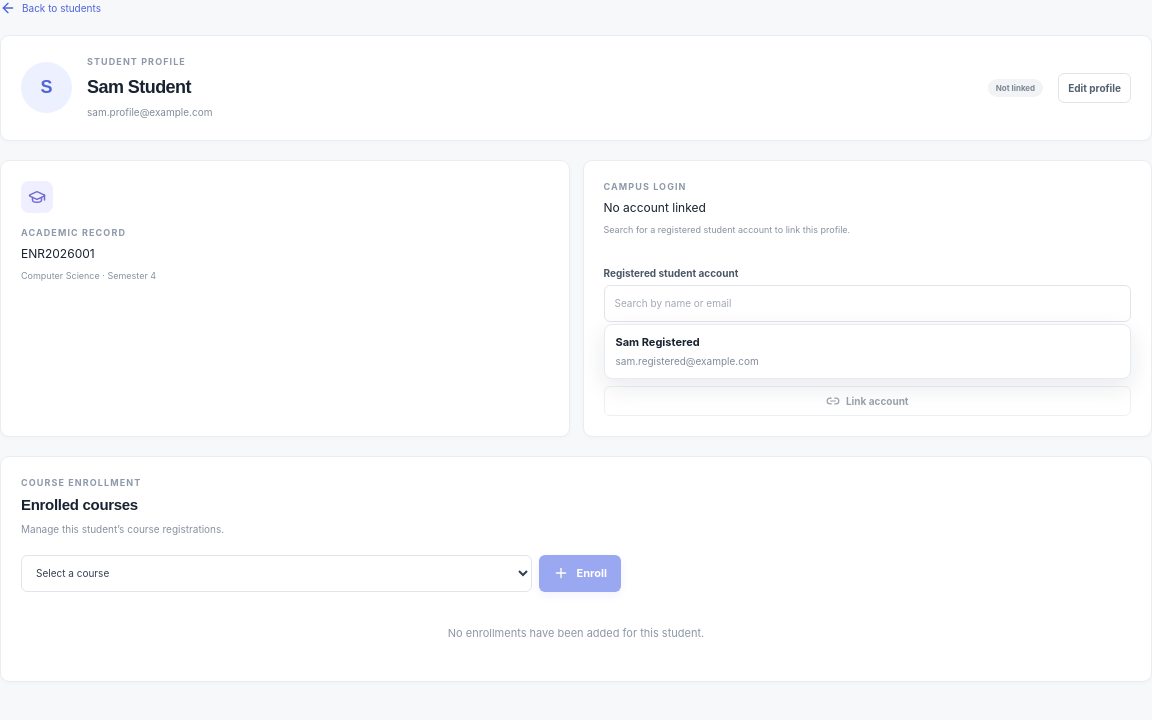
Scenario: Student account linking › shows a conflict message when the account was linked concurrently
Click the option "Sam Registered sam.registered@example.com" at (687, 351), box [616,335,759,367]
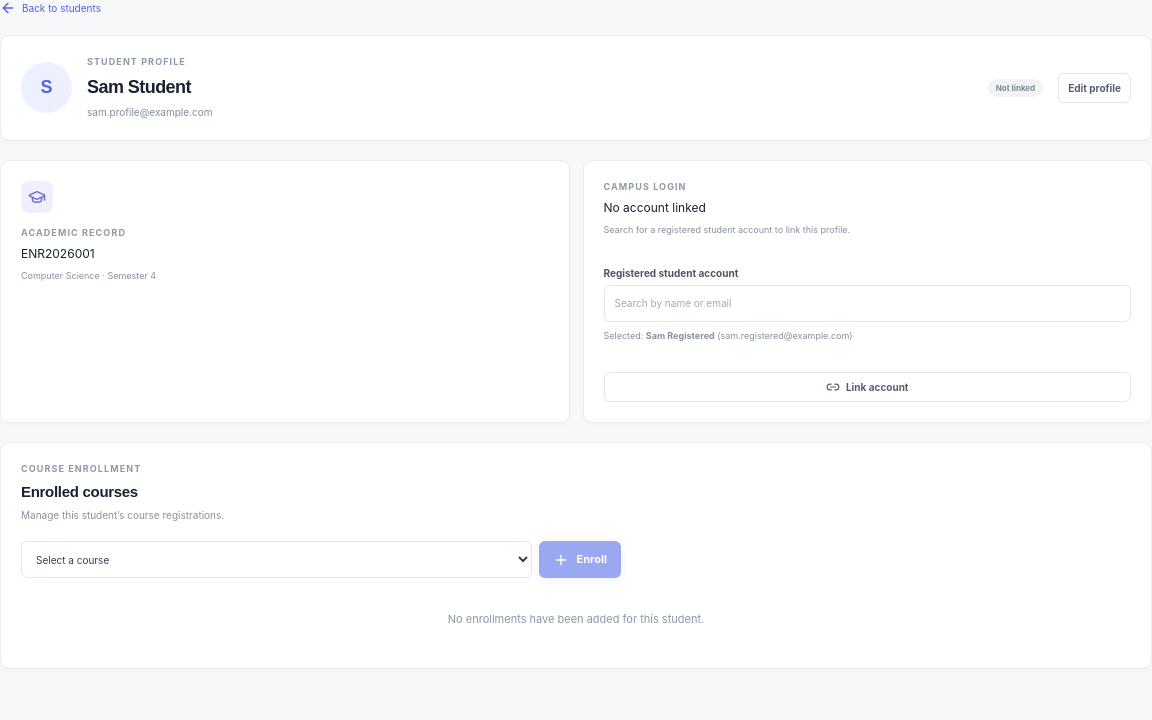
Click the button "Link account" at (867, 387), box [604,372,1131,402]
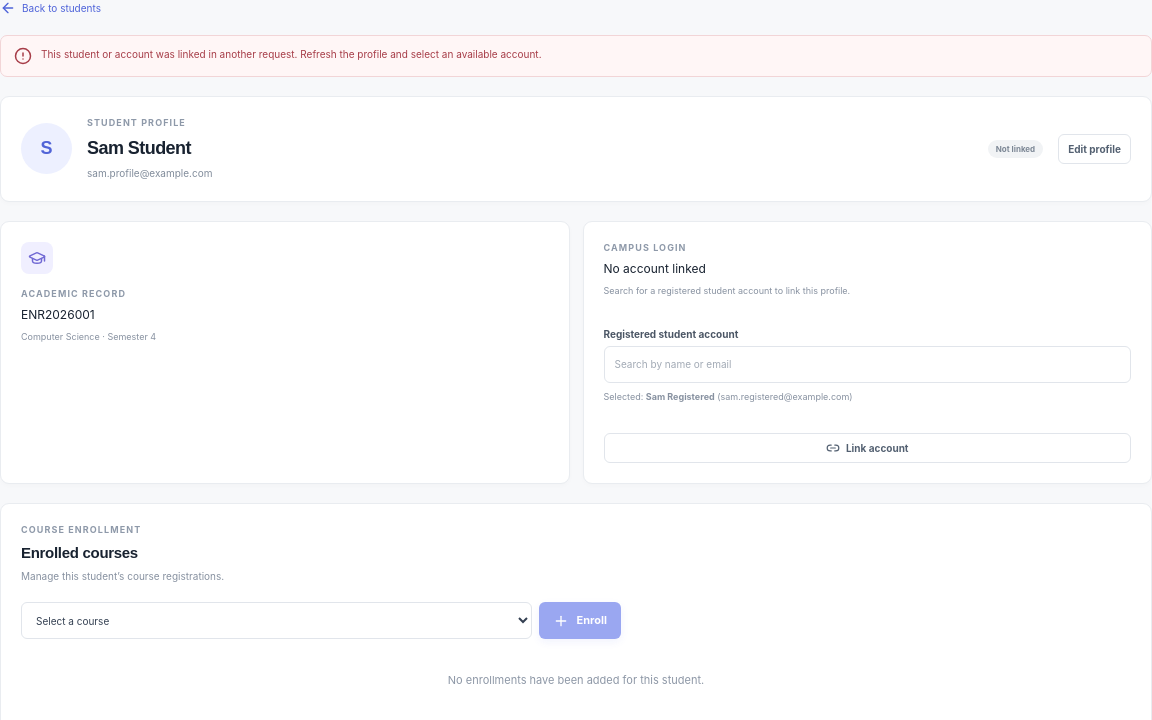
Check: the dropdown labelled "Registered student account" is shown, box [604,346,1131,383]
Check: the text "linked in another request" is shown, box [41,48,542,60]
